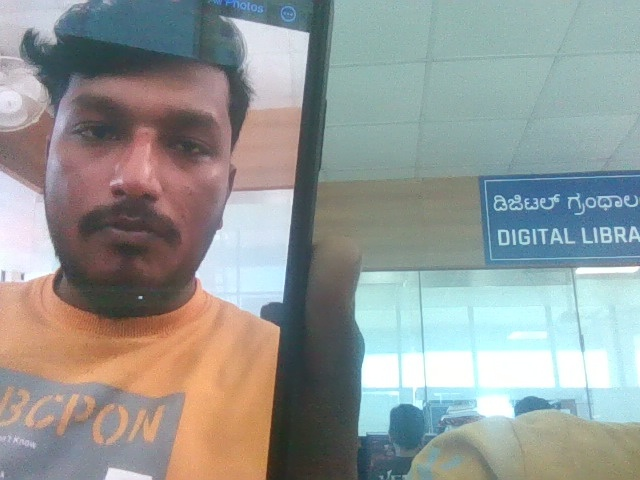fake: (15, 0, 261, 348)
